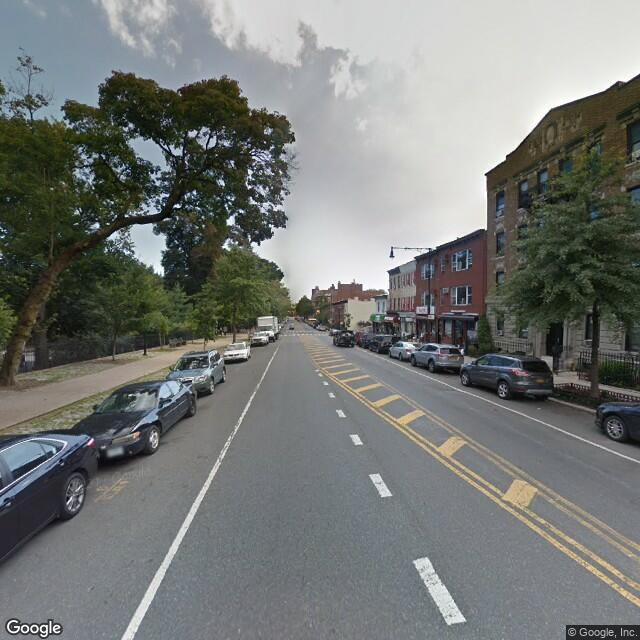litter: (534, 405, 542, 409)
